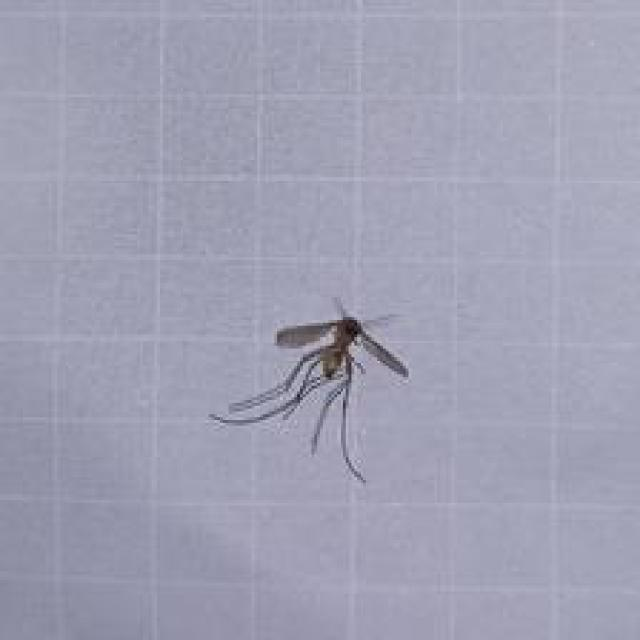Culex: (207, 296, 410, 484)
